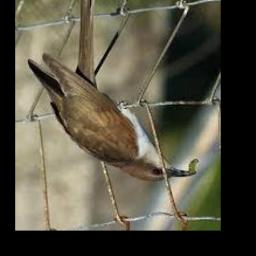Cuckoo: (28, 0, 197, 182)
